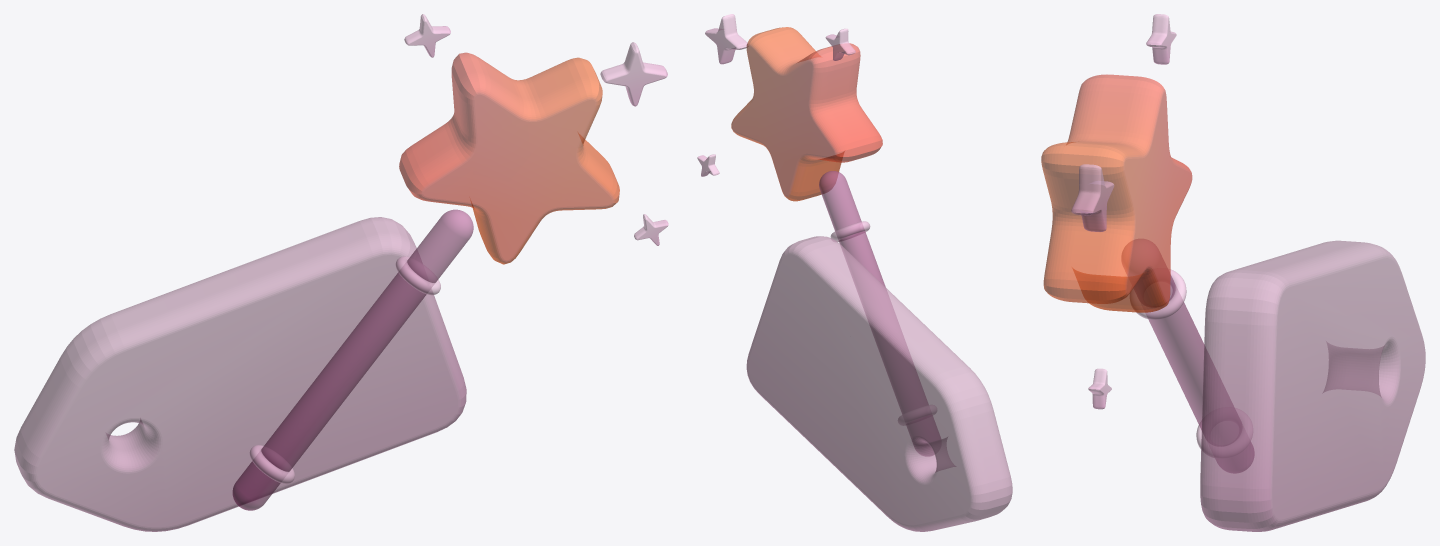
The model's file is magic-wand-tag.glb.
3 views of the same model, side by side, from view 1: azimuth 30°, elevation 25°; view 2: azimuth 150°, elevation 25°; view 3: azimuth 270°, elevation 25° (orthographic). The views are drawn at different scales.
Parts seen in each view (by area): view 1: price_tag, wand_star, wand_stick, sparkle_1, wand_band_2, wand_band_1, sparkle_2; view 2: price_tag, wand_star, wand_stick, sparkle_1, sparkle_2, wand_band_2, wand_band_1; view 3: price_tag, wand_star, wand_stick, sparkle_1, wand_band_2, wand_band_1, sparkle_2, sparkle_3.
Part boxes in pixels (left/top/right/bottom): price_tag: left=14, top=217, right=466, bottom=531; wand_star: left=399, top=52, right=619, bottom=264; wand_stick: left=232, top=209, right=473, bottom=510; sparkle_1: left=600, top=42, right=667, bottom=106; wand_band_2: left=395, top=256, right=440, bottom=295; wand_band_1: left=249, top=445, right=294, bottom=483; sparkle_2: left=404, top=14, right=450, bottom=57; price_tag: left=746, top=236, right=1012, bottom=531; wand_star: left=731, top=27, right=882, bottom=201; wand_stick: left=819, top=171, right=940, bottom=455; sparkle_1: left=705, top=14, right=748, bottom=64; sparkle_2: left=825, top=28, right=855, bottom=60; wand_band_2: left=830, top=221, right=870, bottom=241; wand_band_1: left=898, top=405, right=936, bottom=425; price_tag: left=1200, top=240, right=1425, bottom=531; wand_star: left=1041, top=74, right=1192, bottom=312; wand_stick: left=1122, top=239, right=1253, bottom=472; sparkle_1: left=1071, top=164, right=1114, bottom=231; wand_band_2: left=1130, top=269, right=1186, bottom=319; wand_band_1: left=1196, top=408, right=1252, bottom=458; sparkle_2: left=1146, top=14, right=1176, bottom=64; sparkle_3: left=1088, top=368, right=1111, bottom=409.
Bounding box in the file's own units: 1.13 × 1.09 × 0.6577.
